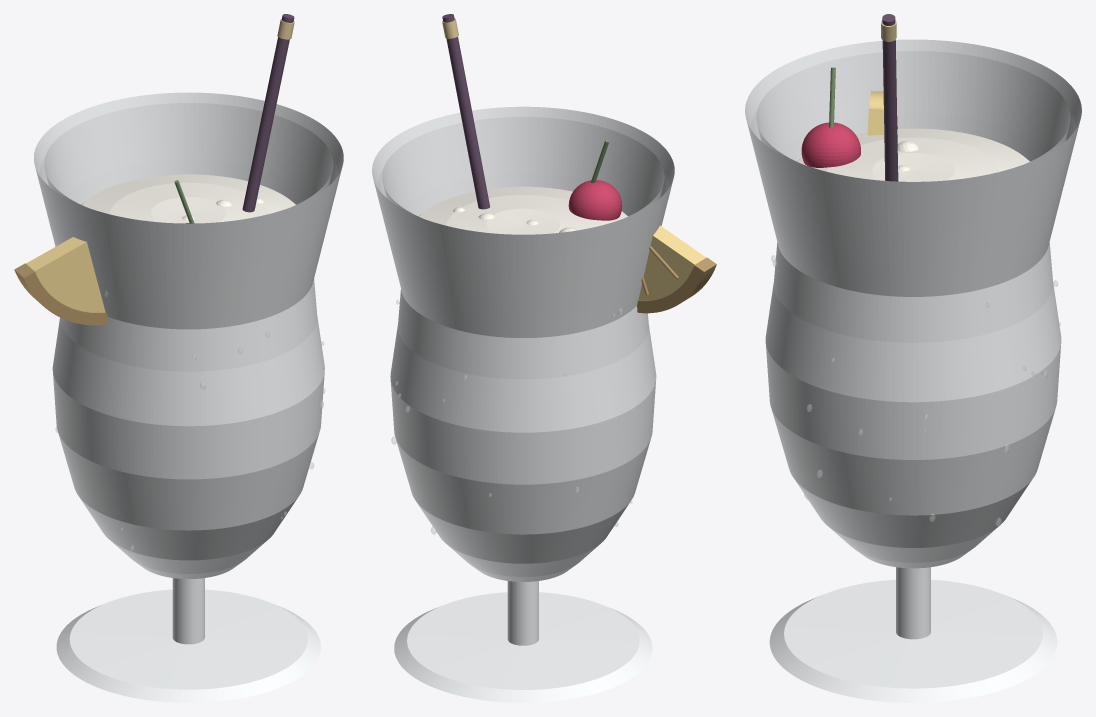
The model's file is pina-colada-v3.glb.
3 renders of one model, left to right at view 1: azimuth 30°, elevation 25°; view 2: azimuth 150°, elevation 25°; view 3: azimuth 270°, elevation 25°, orthographic. The views are drawn at different scales.
Parts seen in each view (by area): view 1: Glass_Bowl, Glass_Foot, Foam_Cap, Pineapple_Fruit, Straw_Main, Glass_Stem, Pineapple_Rind; view 2: Glass_Bowl, Glass_Foot, Foam_Cap, Pineapple_Fruit, Straw_Main, Glass_Stem, Cherry_Fruit, Pineapple_Rind; view 3: Glass_Bowl, Glass_Foot, Foam_Cap, Glass_Stem, Cherry_Fruit, Straw_Main, Pineapple_Fruit.
Boxes of the visible parts, left/top/right/bottom form: Glass_Bowl: left=34, top=92, right=343, bottom=578; Glass_Foot: left=56, top=589, right=320, bottom=702; Foam_Cap: left=81, top=174, right=295, bottom=223; Pineapple_Fruit: left=26, top=237, right=105, bottom=312; Straw_Main: left=242, top=14, right=294, bottom=212; Glass_Stem: left=172, top=578, right=204, bottom=644; Pineapple_Rind: left=14, top=263, right=107, bottom=325; Glass_Bowl: left=372, top=106, right=674, bottom=581; Glass_Foot: left=394, top=592, right=652, bottom=702; Foam_Cap: left=418, top=186, right=627, bottom=234; Pineapple_Fruit: left=638, top=225, right=706, bottom=300; Straw_Main: left=442, top=14, right=489, bottom=209; Glass_Stem: left=507, top=581, right=538, bottom=645; Cherry_Fruit: left=568, top=180, right=622, bottom=220; Pineapple_Rind: left=637, top=257, right=716, bottom=313; Glass_Bowl: left=745, top=39, right=1081, bottom=568; Glass_Foot: left=769, top=579, right=1057, bottom=702; Foam_Cap: left=797, top=128, right=1029, bottom=181; Glass_Stem: left=896, top=567, right=930, bottom=639; Cherry_Fruit: left=801, top=122, right=860, bottom=167; Straw_Main: left=882, top=14, right=898, bottom=181; Pineapple_Fruit: left=867, top=91, right=884, bottom=135.
Size of the model in its own units: 1.93 by 3.65 by 1.64.
